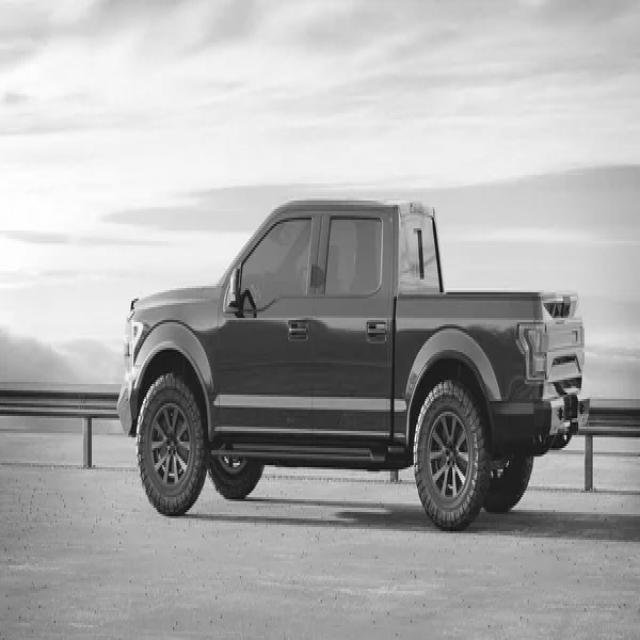Car: (117, 201, 589, 529)
